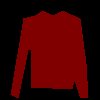abbigliamento_uomo: (10, 10, 88, 98)
